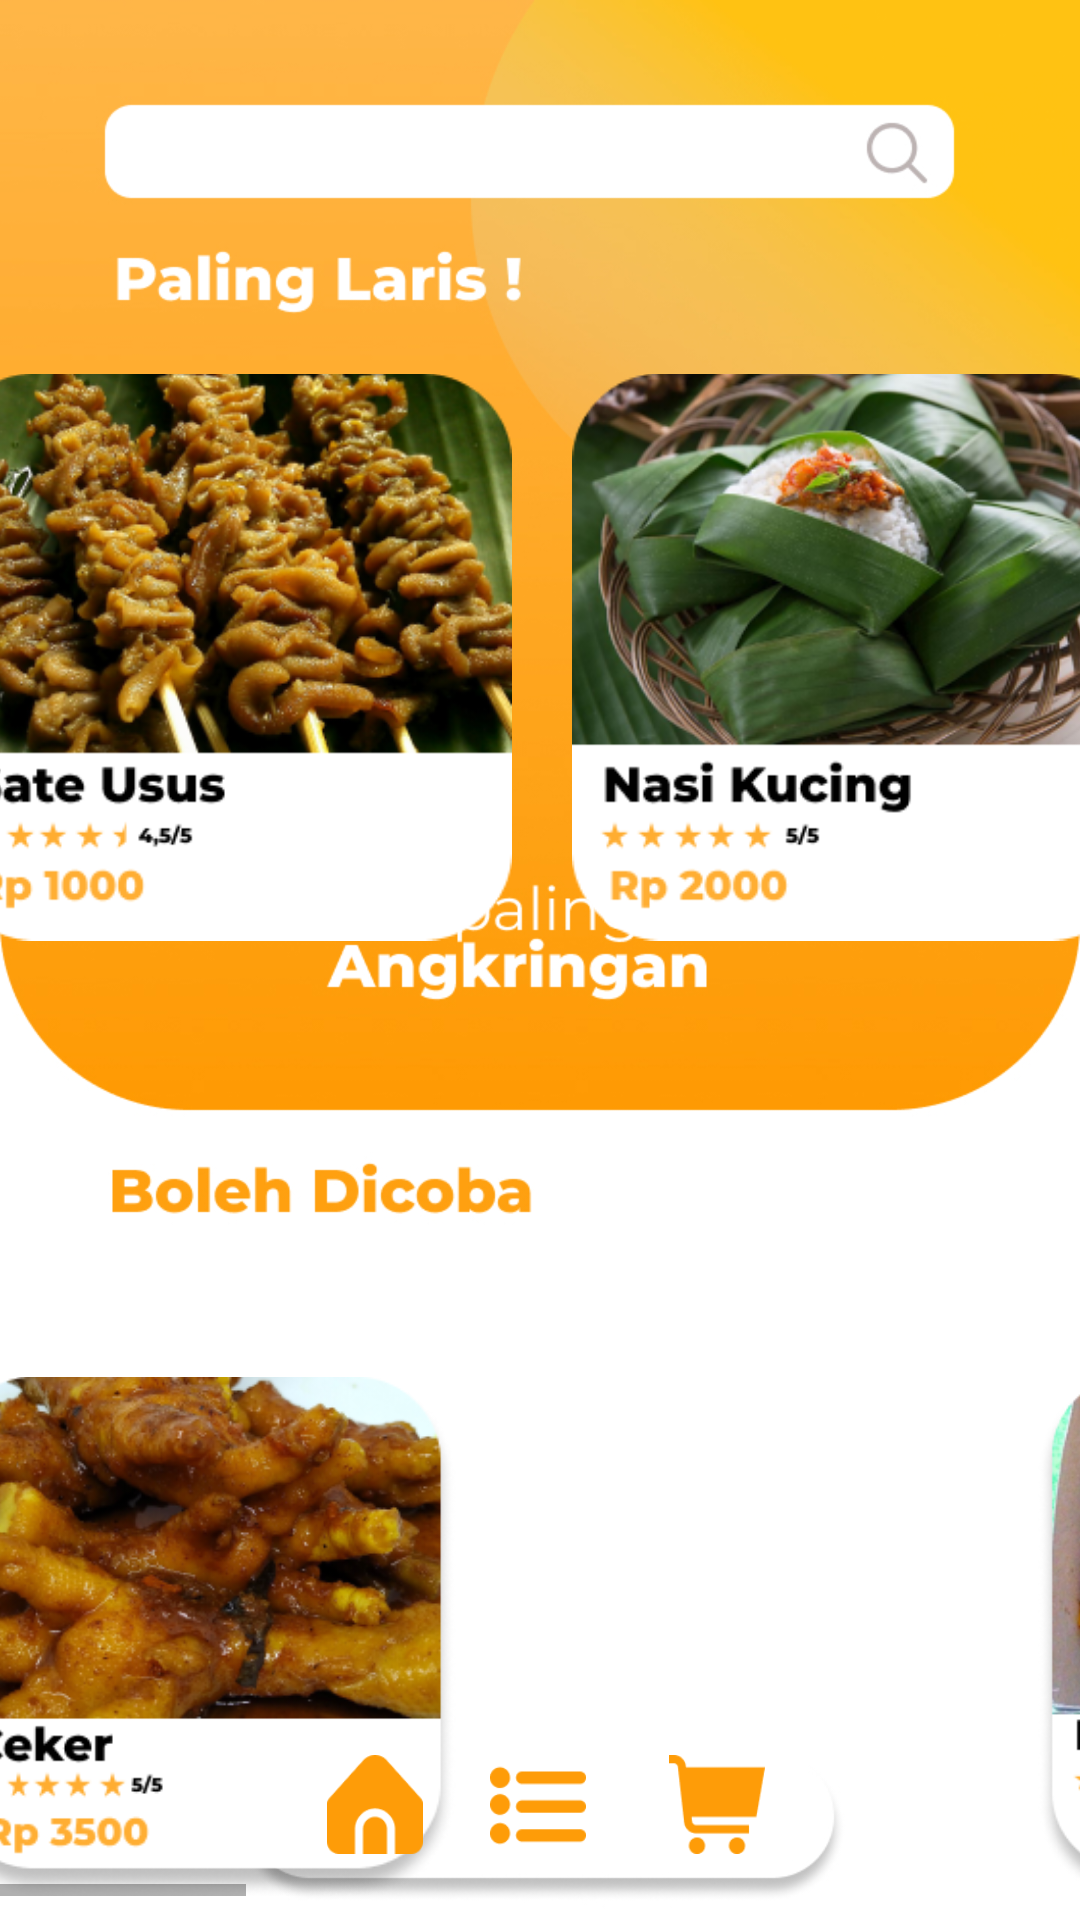

Icons on this 1080px x 1920px Android screen, each with the point to tap as (x,y):
homebutton: (375,1804)
keranjang: (717,1804)
list: (538,1805)
